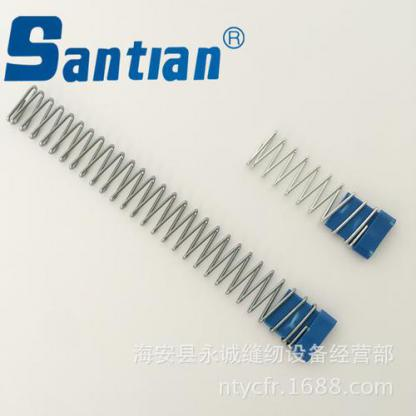FOD: (5, 82, 329, 354), (246, 126, 380, 249)
